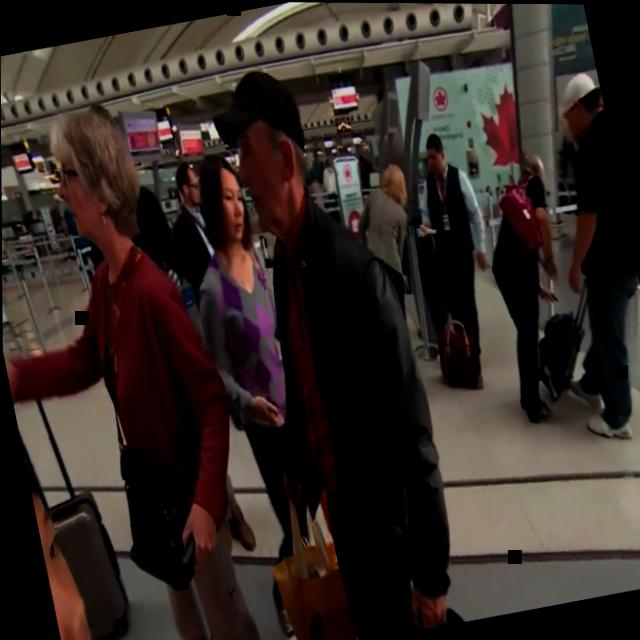luggage: (31, 482, 139, 640), (522, 305, 602, 406)
